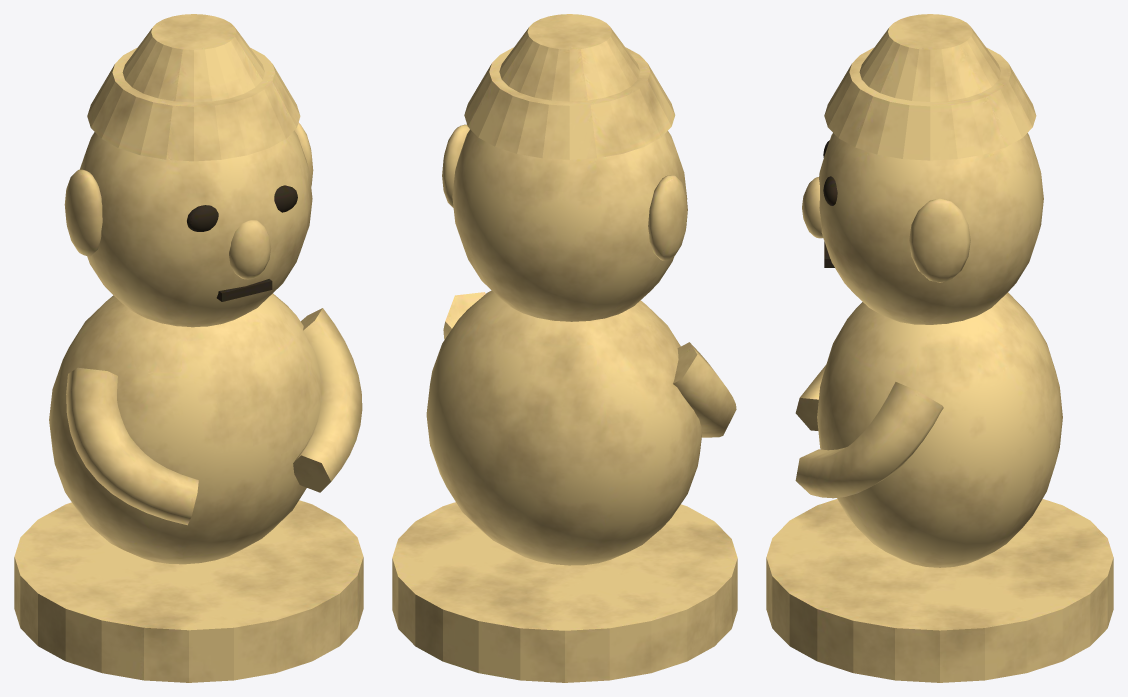
The model's file is idol.glb.
3 renders of one model, left to right at view 1: azimuth 30°, elevation 25°; view 2: azimuth 150°, elevation 25°; view 3: azimuth 270°, elevation 25°, orthographic.
Visible parts, largest first — view 1: idol; view 2: idol; view 3: idol.
Boxes of the visible parts, bbox=[...] form: idol: bbox=[14, 14, 363, 682]; idol: bbox=[392, 14, 737, 682]; idol: bbox=[766, 14, 1113, 682].
Size of the model in its own units: 1.8 by 3.31 by 1.8.
Materials: 1 (1 with a texture image).
